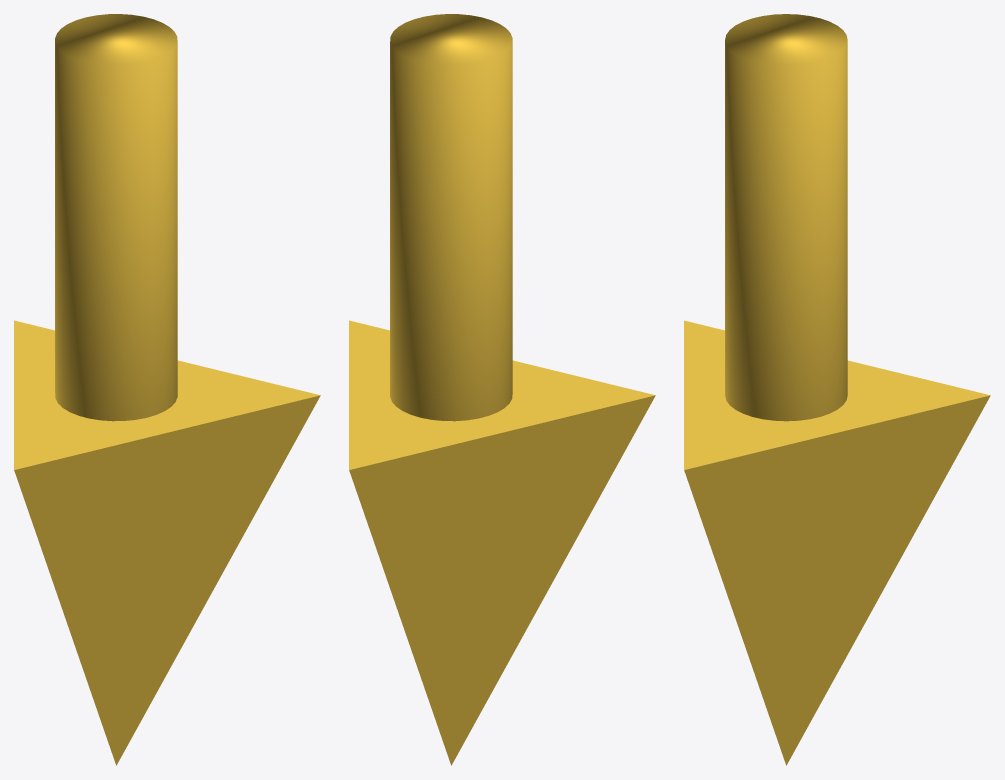
File: arrow.gltf
The picture shows the model from 3 angles, left to right: view 1: azimuth 30°, elevation 25°; view 2: azimuth 150°, elevation 25°; view 3: azimuth 270°, elevation 25°; orthographic projection.
Parts seen in each view (by area): view 1: Cone, Cylinder; view 2: Cone, Cylinder; view 3: Cone, Cylinder.
Boxes of the visible parts, x1,y1,x2,y2 form: Cone: [14, 320, 320, 765]; Cylinder: [55, 14, 177, 421]; Cone: [349, 320, 655, 765]; Cylinder: [390, 14, 512, 421]; Cone: [684, 320, 990, 765]; Cylinder: [725, 14, 847, 421].
Size of the model in its own units: 1.73 by 3.92 by 1.5.
